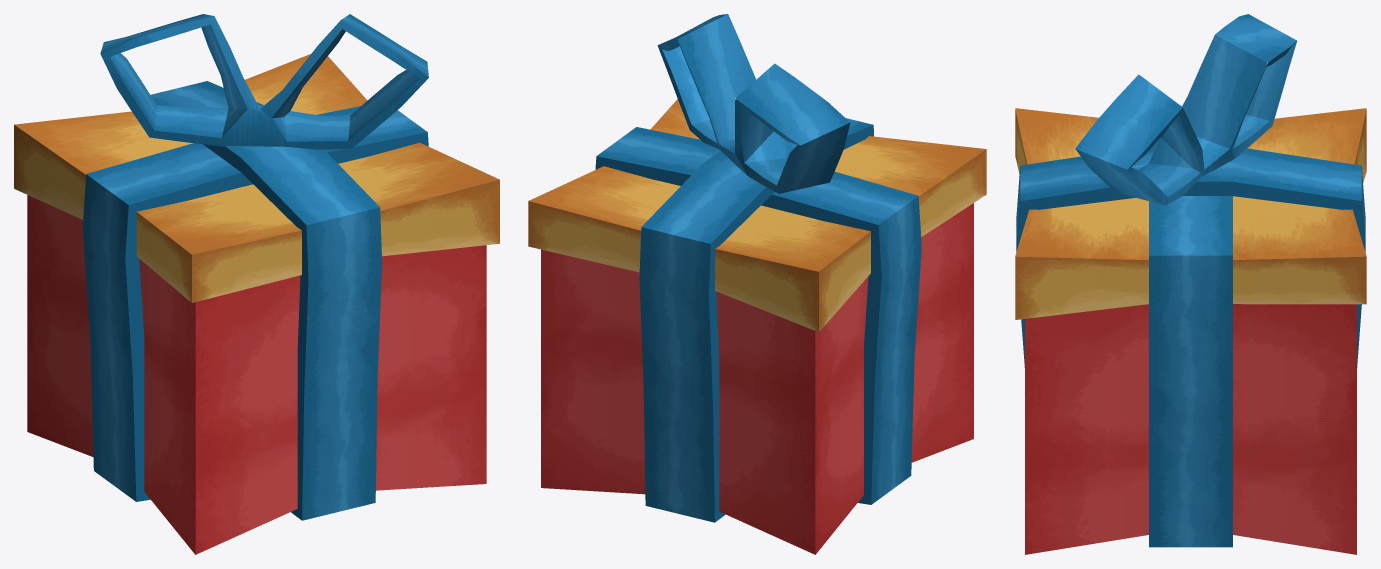
File: gift.fbx
3 renders of one model, left to right at view 1: azimuth 30°, elevation 25°; view 2: azimuth 150°, elevation 25°; view 3: azimuth 270°, elevation 25°, orthographic. The views are drawn at different scales.
Visible parts, largest first — view 1: Cube; view 2: Cube; view 3: Cube.
Part boxes in pixels (x1=…): Cube: x1=14, y1=14, x2=499, y2=554; Cube: x1=528, y1=14, x2=986, y2=554; Cube: x1=1015, y1=14, x2=1366, y2=554.
Size of the model in its own units: 89.48 by 124 by 89.48.
Materials: 1 (1 with a texture image).
